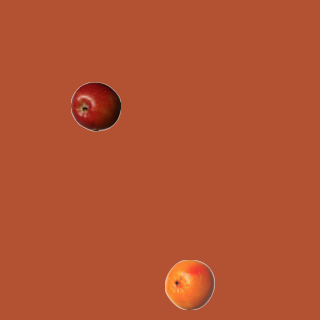Apple Braeburn: (70, 81, 120, 131)
Grapefruit Pink: (164, 259, 214, 309)
